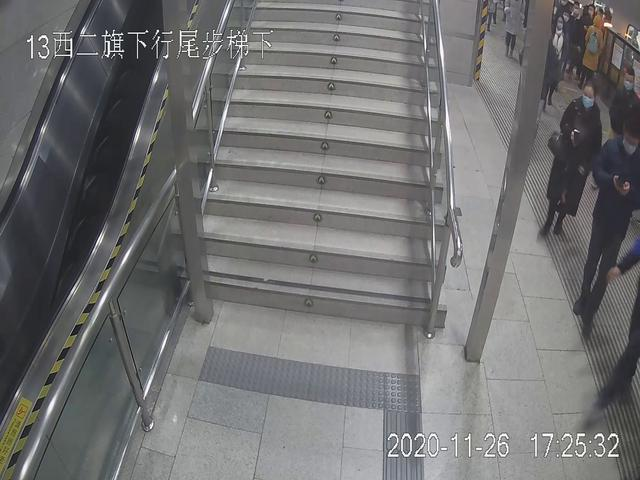person: (582, 101, 640, 337), (540, 81, 598, 235)
